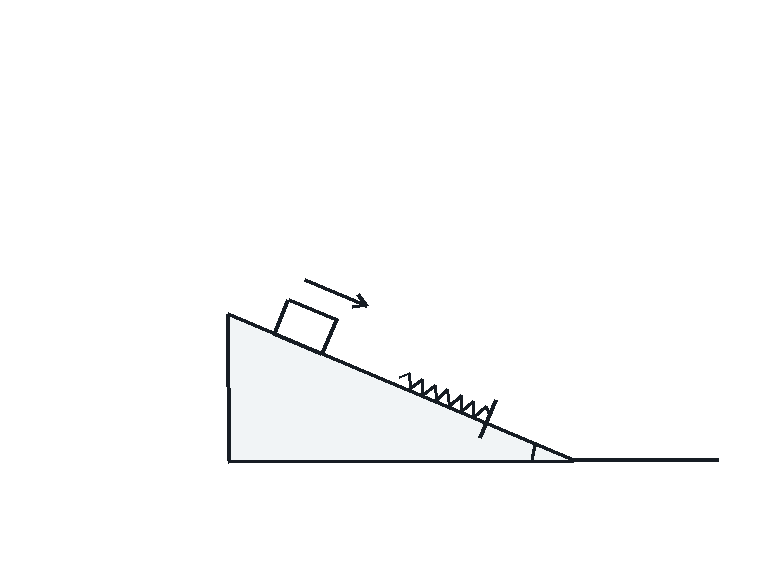block: (272, 297, 338, 356)
ramp: (226, 312, 574, 462)
spring: (398, 371, 491, 418)
